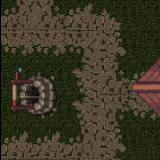Hide: (0, 50, 80, 140)
